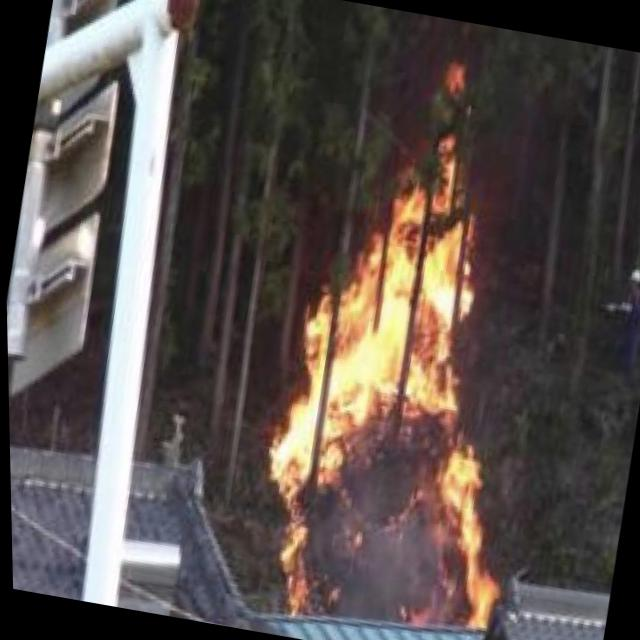Fire: (237, 157, 570, 638)
